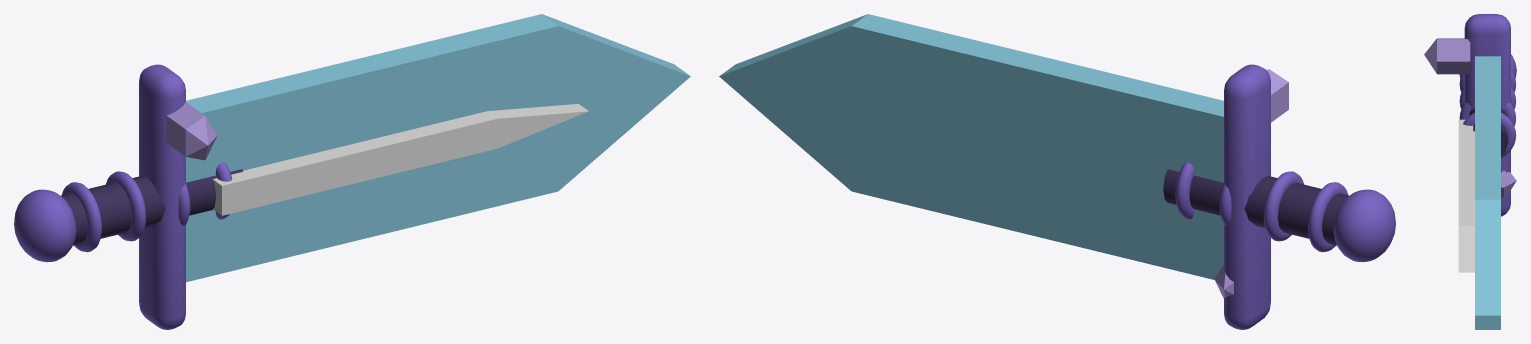
Rendered from wpn_crystalsword.glb.
The picture shows the model from 3 angles, left to right: view 1: azimuth 30°, elevation 25°; view 2: azimuth 150°, elevation 25°; view 3: azimuth 270°, elevation 25°; orthographic projection. The views are drawn at different scales.
Visible parts, largest first — view 1: object 1, object 4, crystal.001, torus, torus.001; view 2: object 1, torus, torus.001, torus.003, crystal.001; view 3: object 1, object 4, crystal.001, torus.003, torus.002, crystal, torus.001, torus.
Part boxes in pixels (bbox=[...]): object 1: bbox=[14, 14, 690, 329]; object 4: bbox=[213, 104, 588, 215]; crystal.001: bbox=[166, 102, 217, 160]; torus: bbox=[62, 182, 101, 252]; torus.001: bbox=[106, 171, 146, 241]; object 1: bbox=[719, 14, 1395, 329]; torus: bbox=[1308, 182, 1348, 252]; torus.001: bbox=[1263, 171, 1303, 241]; torus.003: bbox=[1175, 162, 1194, 219]; crystal.001: bbox=[1267, 69, 1288, 122]; object 1: bbox=[1459, 14, 1516, 329]; object 4: bbox=[1458, 119, 1474, 272]; crystal.001: bbox=[1424, 38, 1470, 74]; torus.003: bbox=[1463, 112, 1516, 157]; torus.002: bbox=[1459, 103, 1516, 126]; crystal: bbox=[1501, 170, 1516, 197]; torus.001: bbox=[1459, 87, 1516, 109]; torus: bbox=[1459, 70, 1516, 92].
Size of the model in its own units: 1.3 by 0.475 by 0.2.
